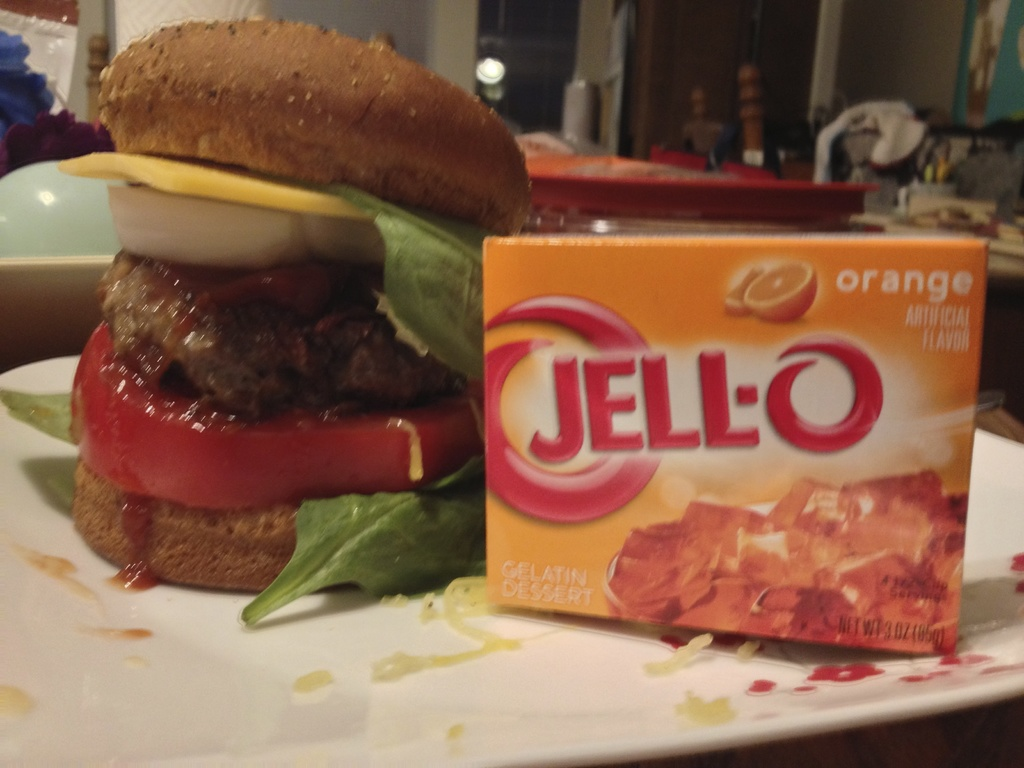Hamburger: (0, 15, 532, 626)
